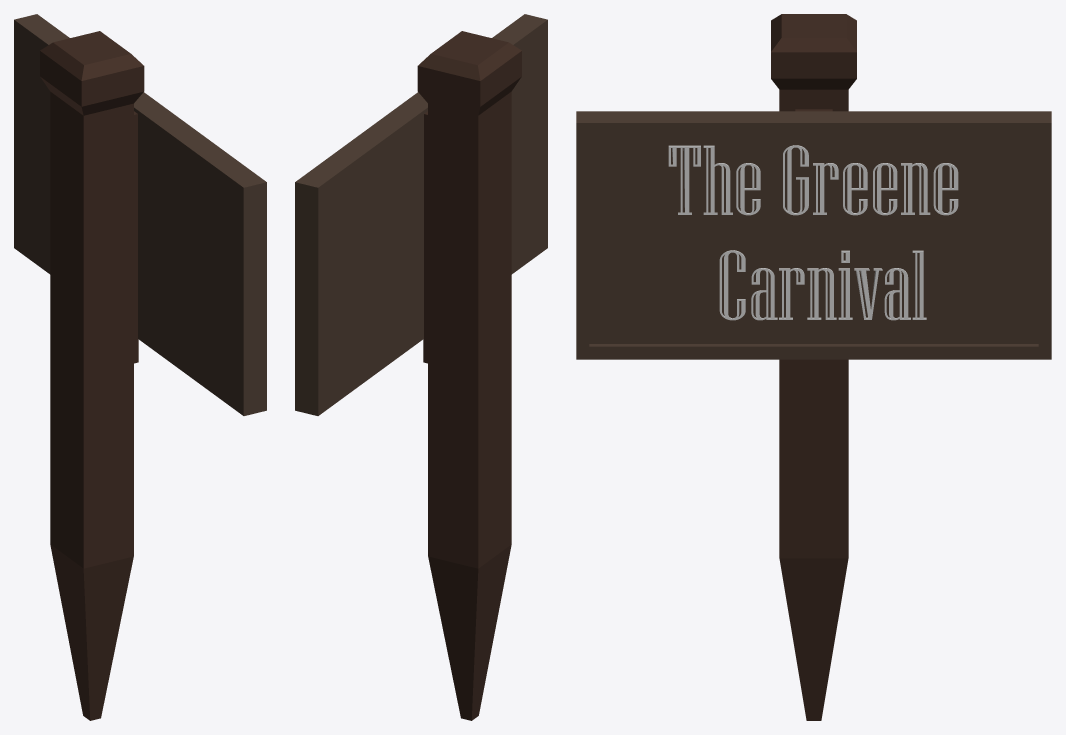
File: small sign.fbx
3 renders of one model, left to right at view 1: azimuth 30°, elevation 25°; view 2: azimuth 150°, elevation 25°; view 3: azimuth 270°, elevation 25°, orthographic. The views are drawn at different scales.
Visible parts, largest first — view 1: Sign post, Sign; view 2: Sign post, Sign; view 3: Sign, Sign post, Text.
Part boxes in pixels (box(x1,y1,x2,y2)): Sign post: box(40, 31, 144, 720); Sign: box(14, 14, 266, 415); Sign post: box(417, 31, 521, 720); Sign: box(295, 14, 547, 415); Sign: box(576, 111, 1051, 359); Sign post: box(771, 14, 856, 720); Text: box(668, 145, 958, 320).
Bounding box in the file's own units: 89.17 × 624 × 389.
